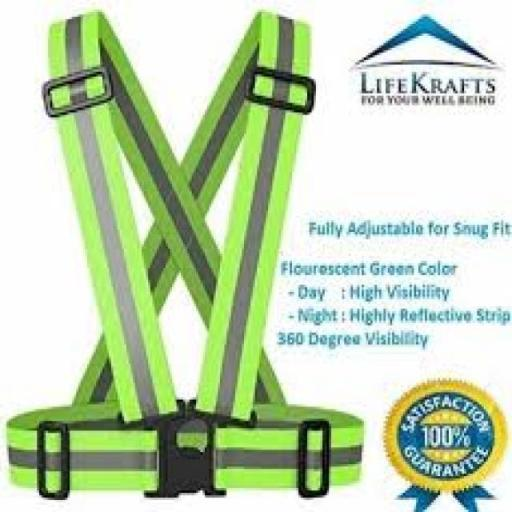vest: (2, 14, 490, 512)
